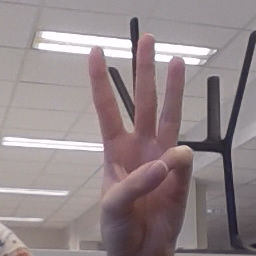W: (86, 31, 194, 249)
